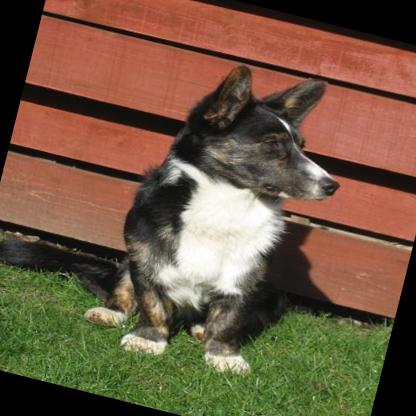Cardigan: (76, 36, 362, 388)
